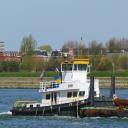tugboat: (10, 36, 118, 121)
